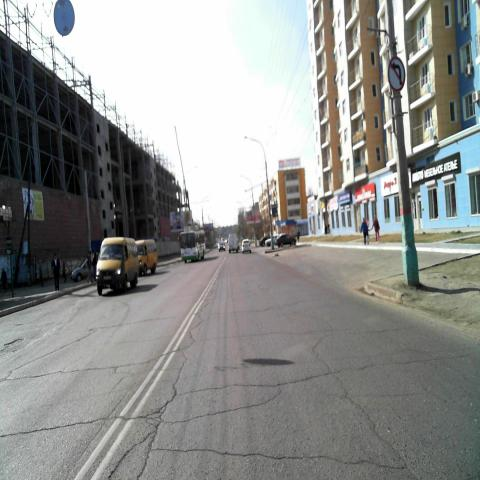3_18_2: (386, 54, 406, 92)
